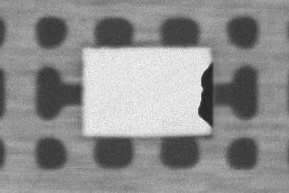DIE_BROKEN: (197, 61, 215, 125)
